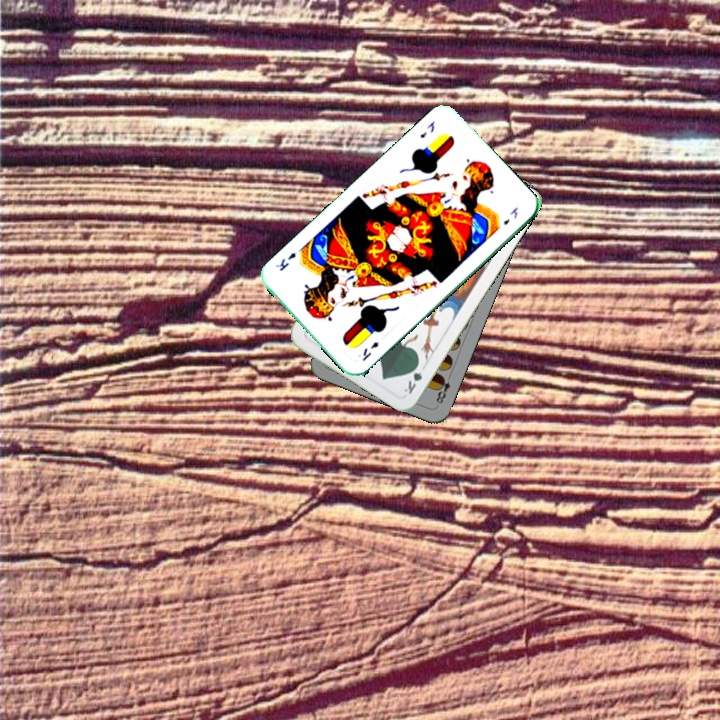E8: (432, 370, 454, 406)
EK: (358, 337, 381, 363), (416, 117, 437, 141)
GK: (400, 358, 427, 397)
